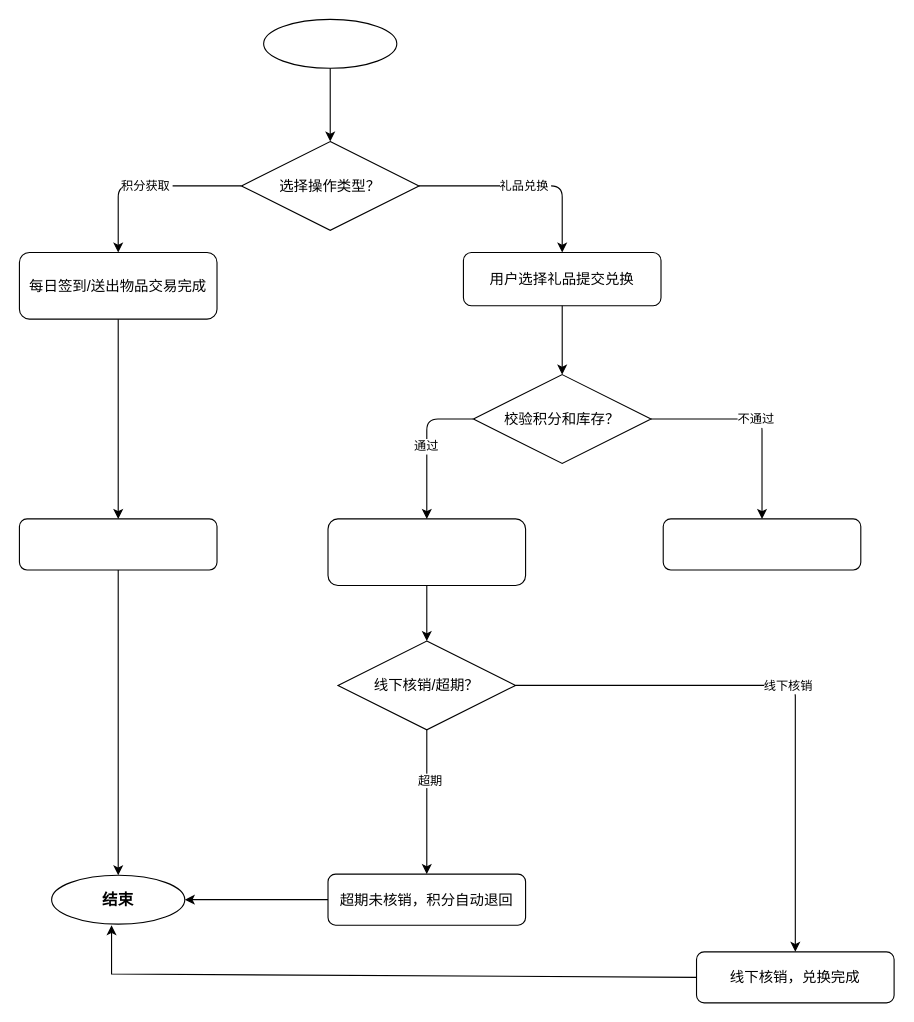
The diagram is 914 pixels wide and 1022 high, and some of its shapes have lost their labels. The shapes that lost their labels are listed below. From the top down, each one's centre as x and y in pixels, then its label:
(x=330, y=43): 开始
(x=117, y=544): 自动发放奖励积分
(x=426, y=552): 扣减积分，生成待核销兑换码
(x=761, y=544): 兑换失败（积分不足/无库存）
